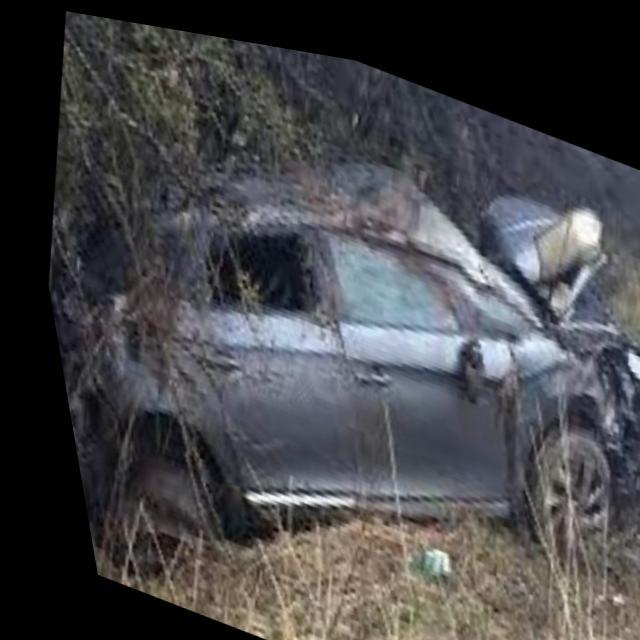no part: (466, 168, 640, 509)
